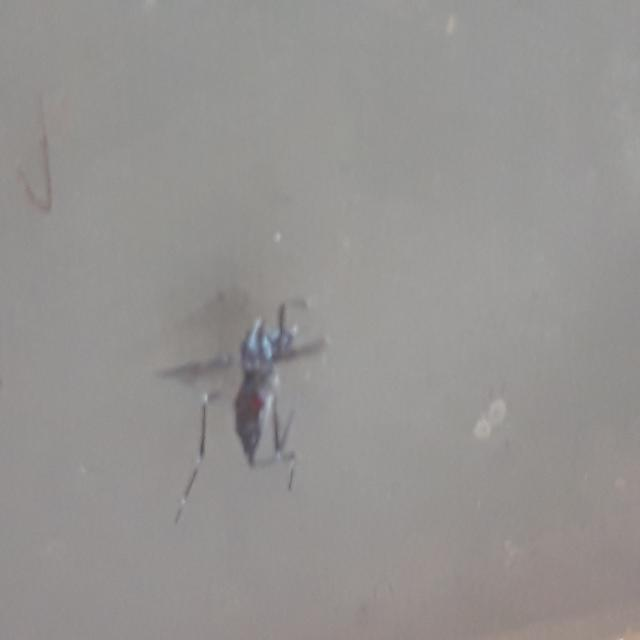albopictus: (159, 299, 324, 520)
